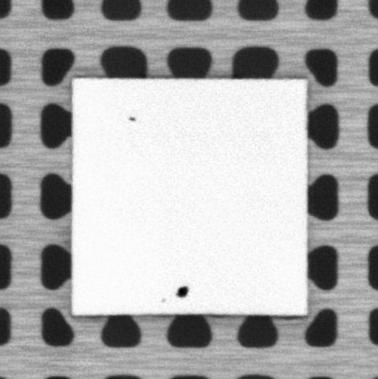DIE_INK: (175, 285, 190, 298), (128, 114, 137, 122)
